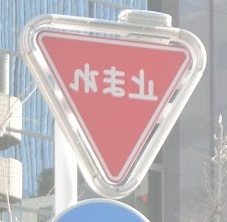Regulatory_sign_triangle: (23, 7, 197, 190)
